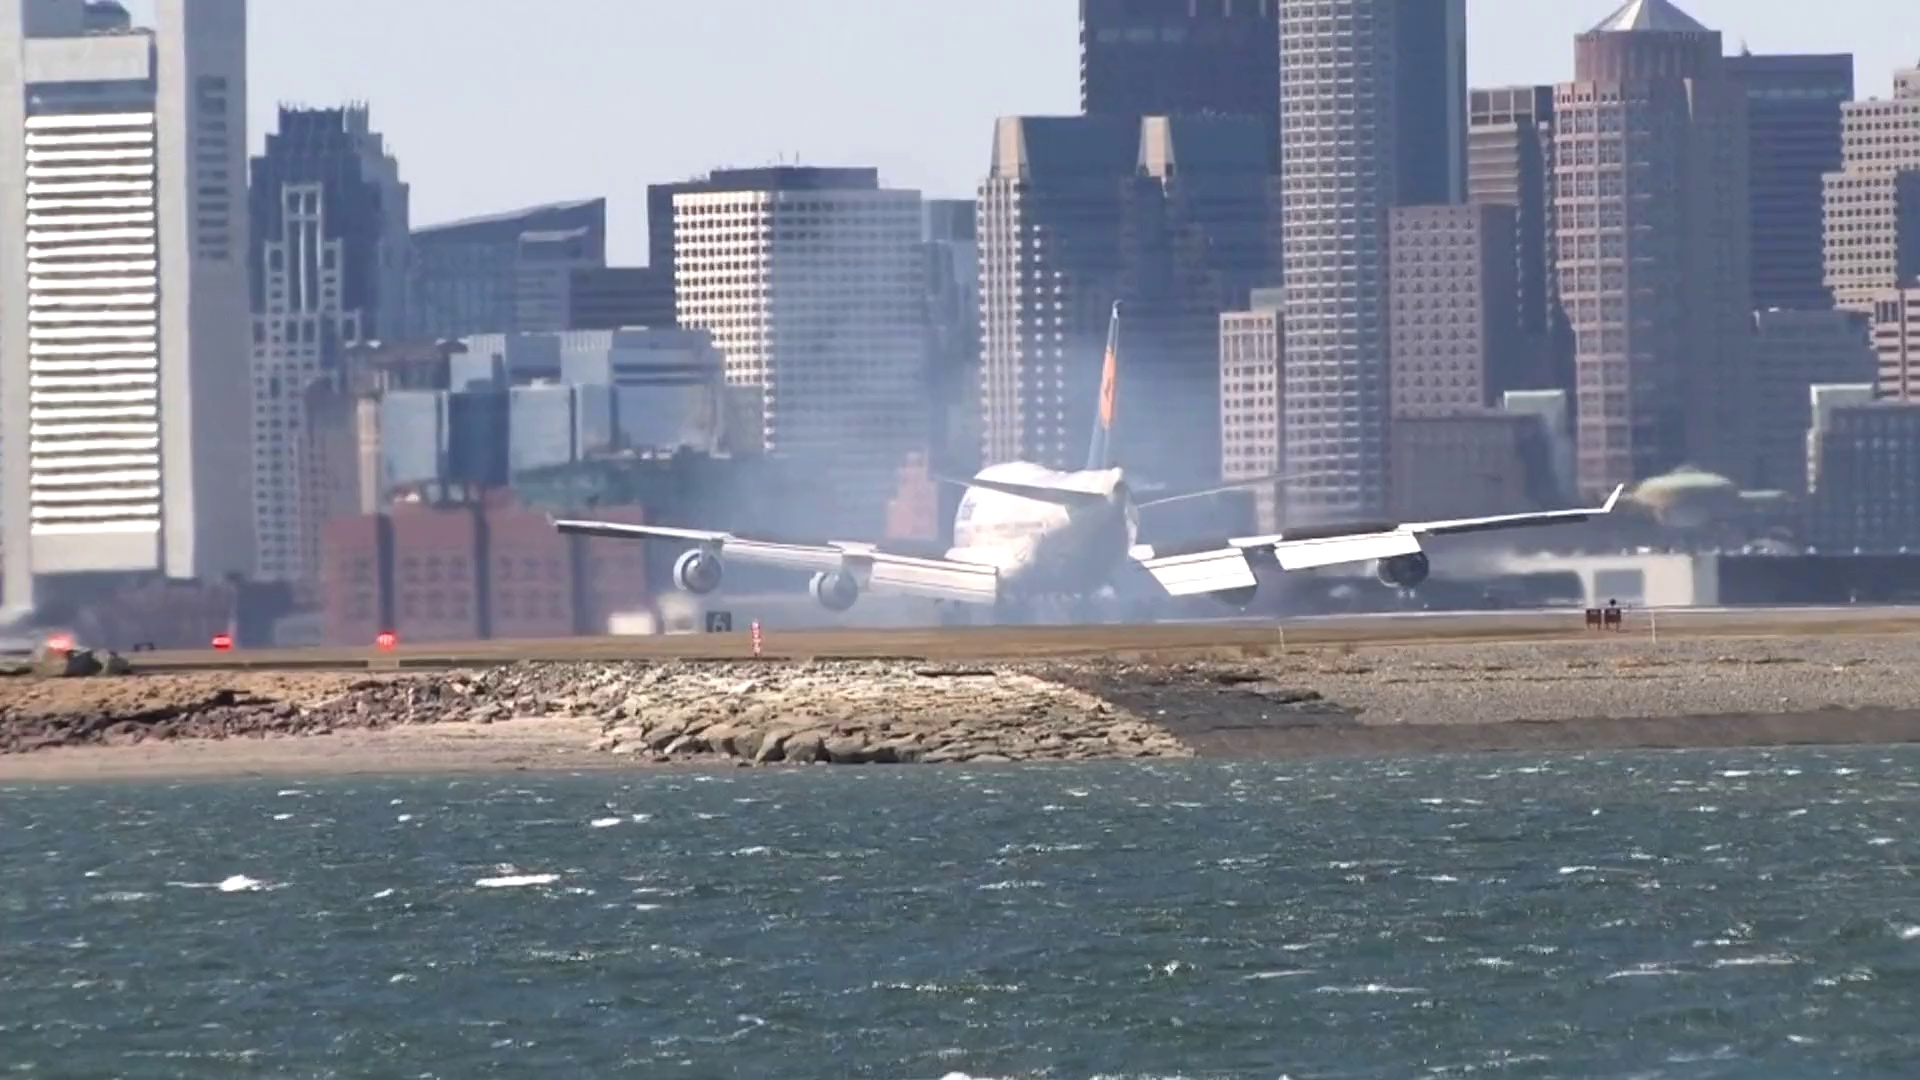plane: (543, 301, 1623, 617)
